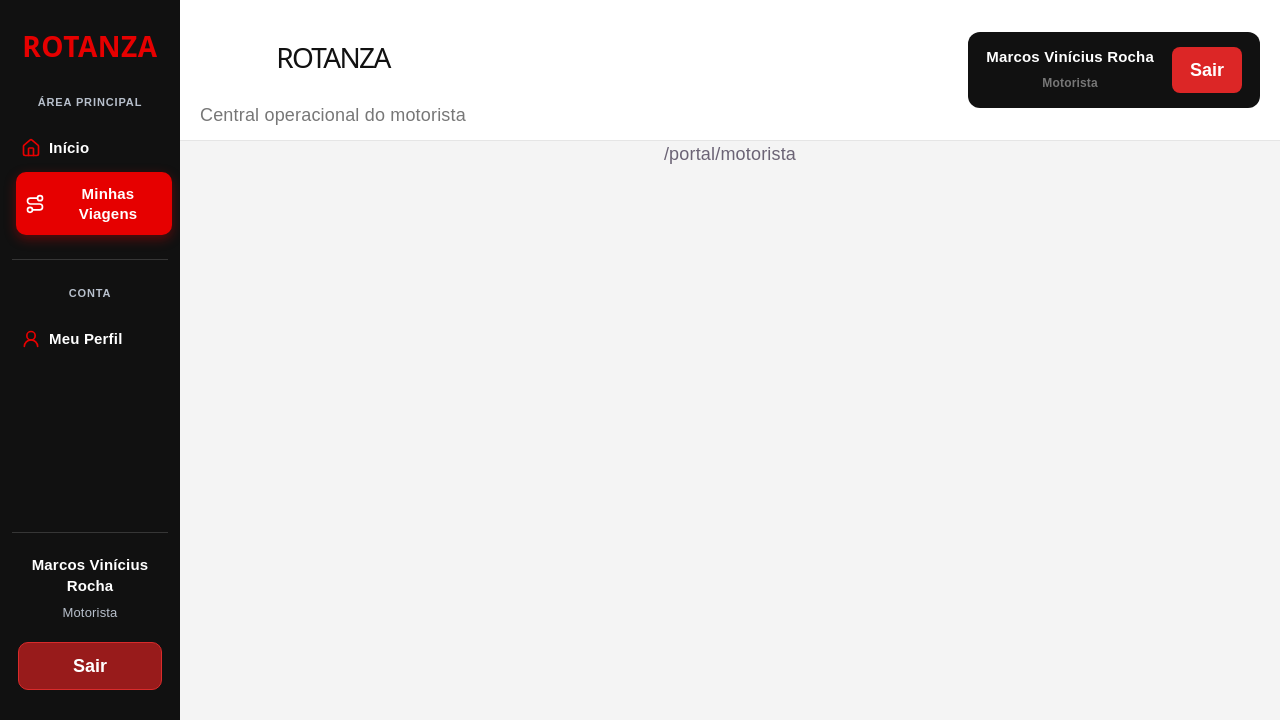
it: menu do motorista › reutiliza o logout e redirecionamento da topbar
Click the button "Sair" below "Meu Perfil". click: click(90, 666)
box: top-left (18, 642), bottom-right (162, 690)
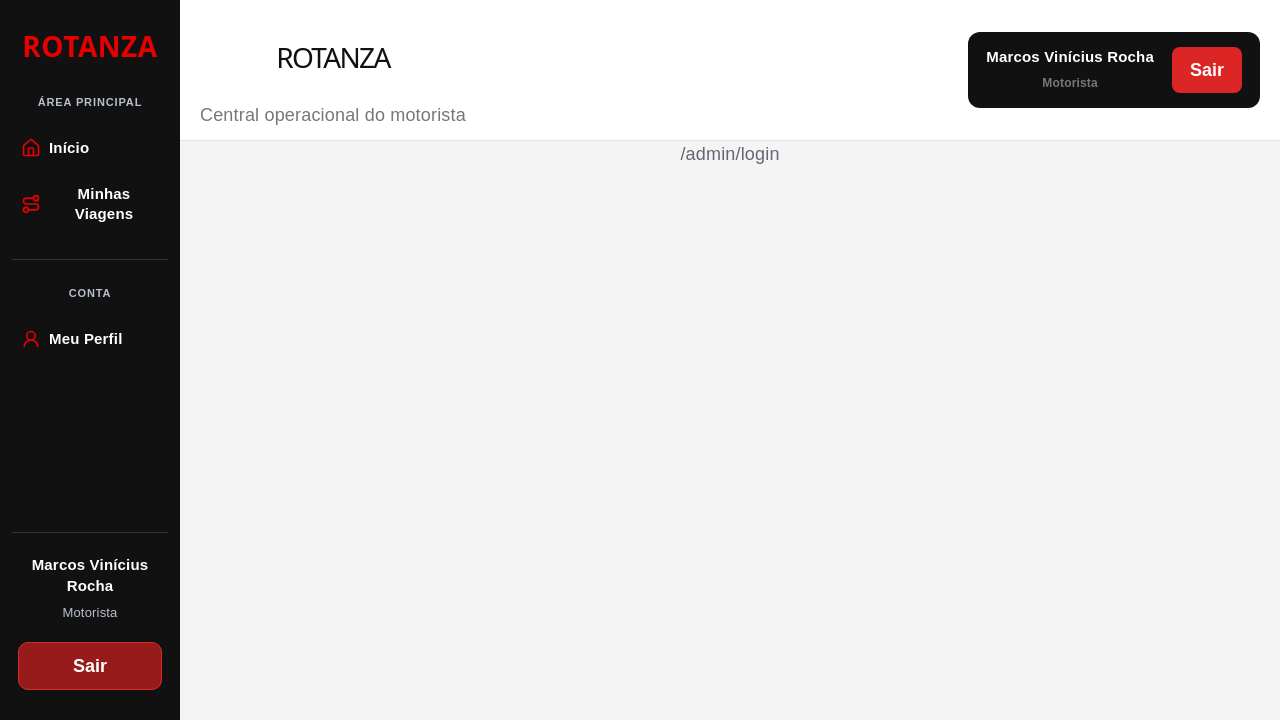
Check: the text with test id "rota-atual" reads "/admin/login", box top-left (680, 144), bottom-right (780, 164)
